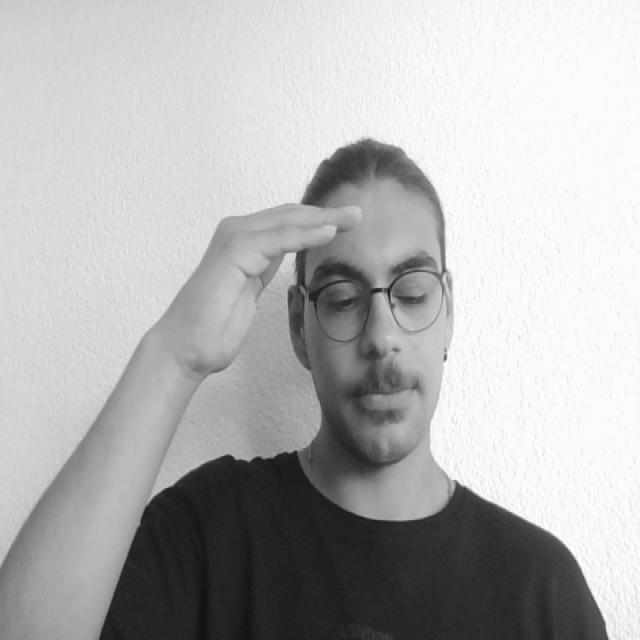Merhaba: (162, 180, 367, 436)
